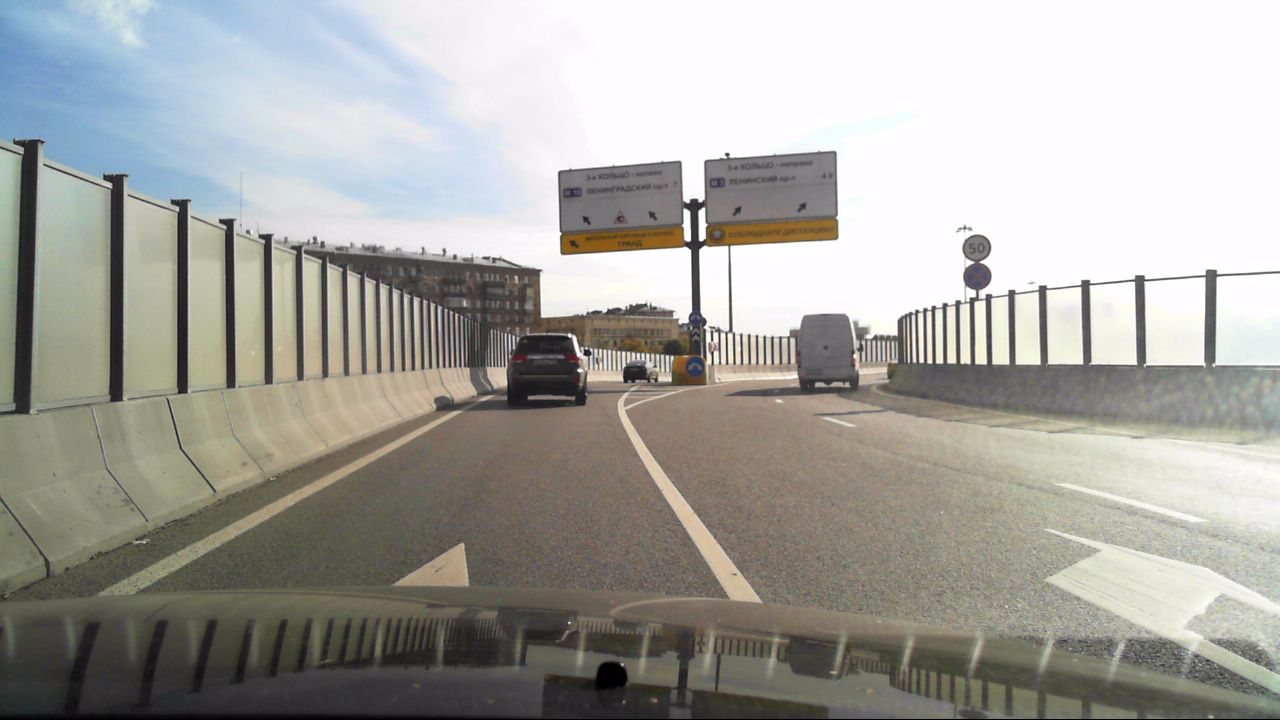No Parking: (962, 262, 993, 290)
